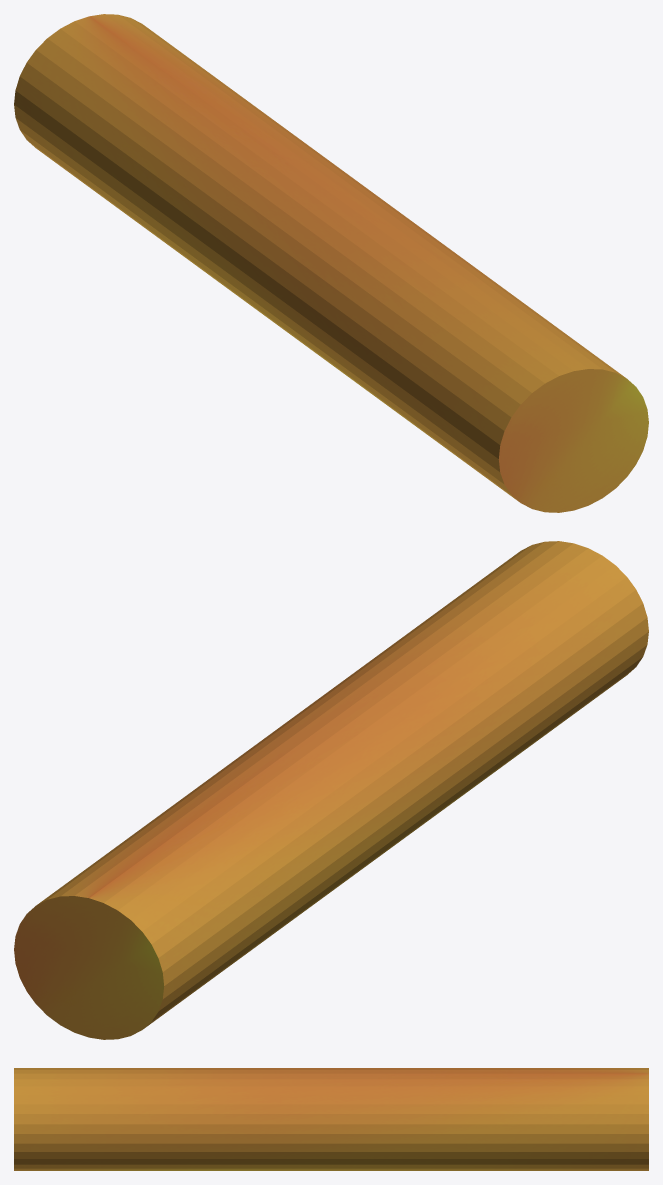
The model's file is lazer.obj.
3 views of the same model, one above another, from view 1: azimuth 30°, elevation 25°; view 2: azimuth 150°, elevation 25°; view 3: azimuth 270°, elevation 25° (orthographic). The views are drawn at different scales.
Parts seen in each view (by area): view 1: Cylinder; view 2: Cylinder; view 3: Cylinder.
Boxes of the visible parts, x1,y1,x2,y2 form: Cylinder: (14,14,648,512); Cylinder: (14,541,648,1039); Cylinder: (14,1068,648,1170).
Size of the model in its own units: 0.237 by 0.2103 by 1.33.
